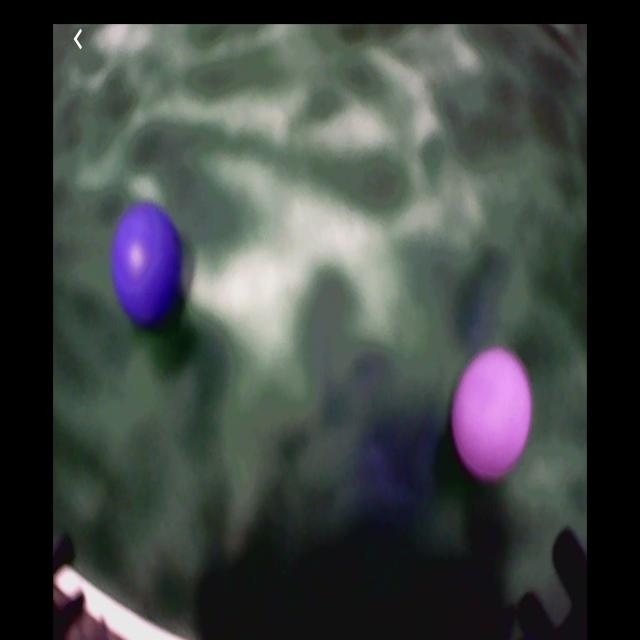ball: (452, 348, 534, 482), (112, 202, 184, 329)
